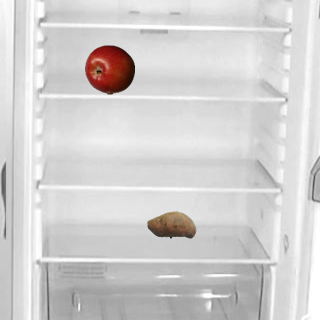Apple Braeburn: (84, 44, 134, 94)
Potato Sweet: (146, 199, 196, 249)
